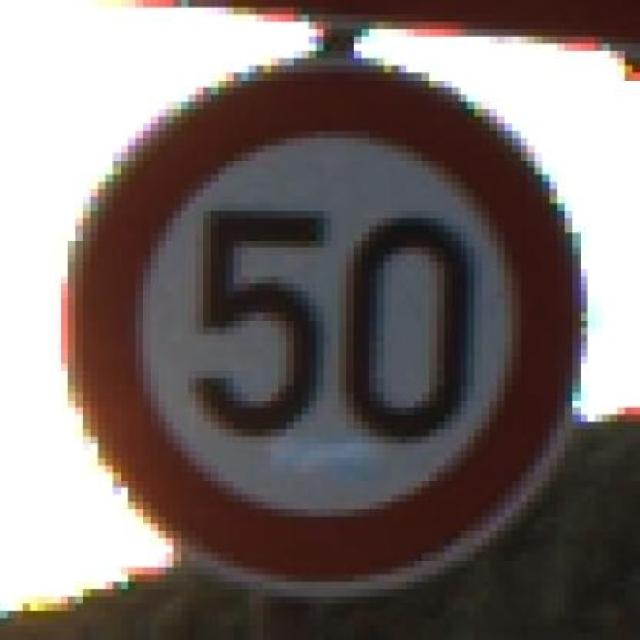forb_speed_over_50: (56, 53, 587, 590)
